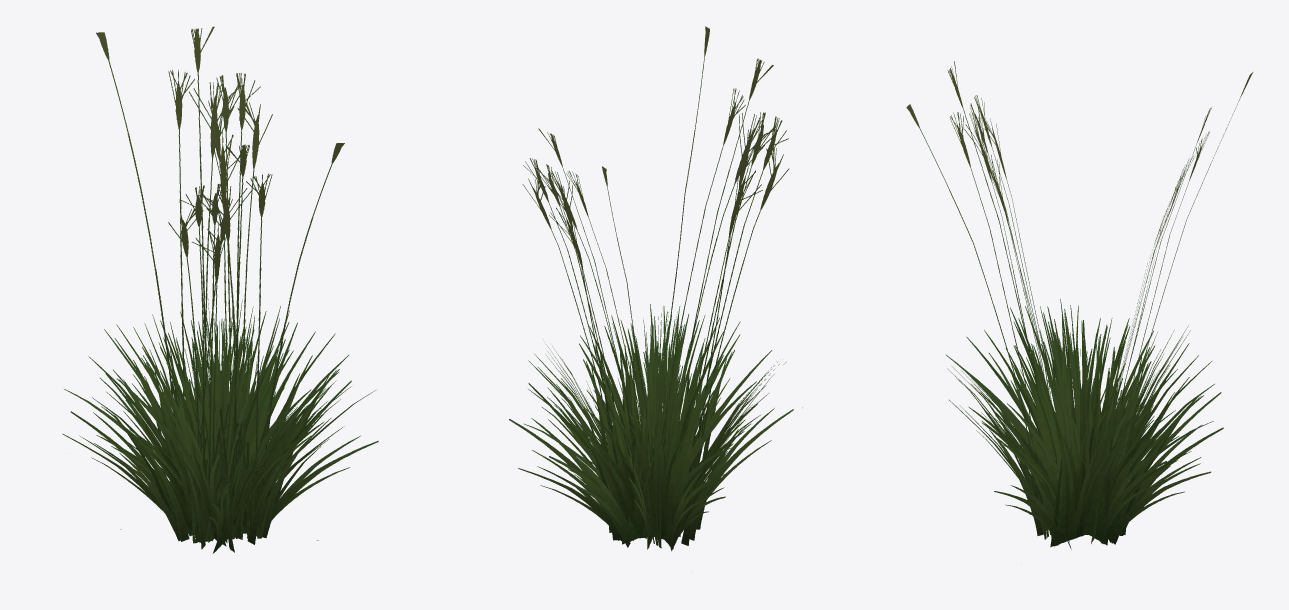
Rendered from grass_tuft_green.glb.
The picture shows the model from 3 angles, left to right: view 1: azimuth 30°, elevation 25°; view 2: azimuth 150°, elevation 25°; view 3: azimuth 270°, elevation 25°; orthographic projection. The views are drawn at different scales.
Visible parts, largest first — view 1: grass_tuft_green_grass_green, grass_tuft_green_grass_stalks_green; view 2: grass_tuft_green_grass_green, grass_tuft_green_grass_stalks_green; view 3: grass_tuft_green_grass_green, grass_tuft_green_grass_stalks_green.
Boxes of the visible parts, box(x1,y1,x2,y2) form: grass_tuft_green_grass_green: box(62, 299, 378, 553); grass_tuft_green_grass_stalks_green: box(96, 26, 344, 543); grass_tuft_green_grass_green: box(509, 304, 802, 551); grass_tuft_green_grass_stalks_green: box(522, 26, 789, 548); grass_tuft_green_grass_green: box(946, 299, 1223, 549); grass_tuft_green_grass_stalks_green: box(906, 61, 1253, 543).
Size of the model in its own units: 0.6008 by 0.7685 by 0.6008.
Materials: 2 (2 with a texture image).
